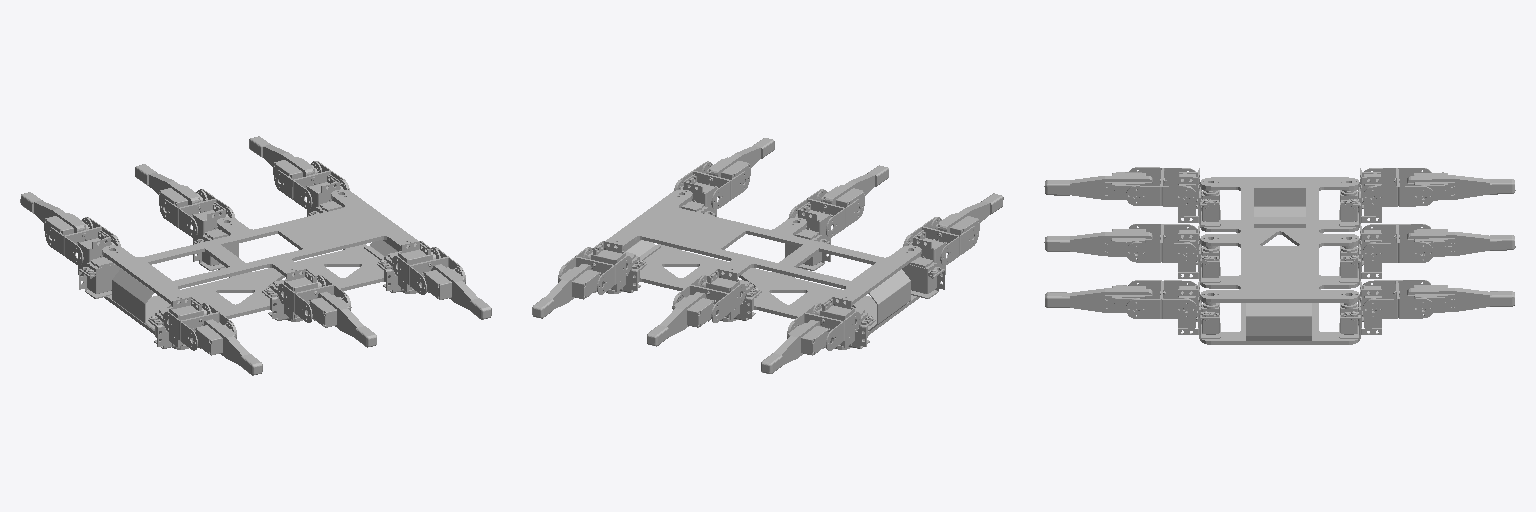
--- Render facts (derived) ---
Views: 3 orthographic renders of the robot side by side, from view 1: azimuth 30°, elevation 25°; view 2: azimuth 150°, elevation 25°; view 3: azimuth 270°, elevation 25°.
Model hexapodV2 with 25 links and 24 joints (18 revolute, 6 fixed), rooted at base_link, posed every joint at zero.
Visible links, largest first — view 1: base_link, lb_hip_to_base, rb_toe_to_knee, rf_toe_to_knee, rm_toe_to_knee, lf_toe_to_knee, lb_toe_to_knee, lm_hip_to_base, lm_toe_to_knee, lf_knee_to_hip, lm_knee_to_hip, lb_knee_to_hip (+7 smaller); view 2: base_link, rb_hip_to_base, lf_toe_to_knee, lb_toe_to_knee, lm_toe_to_knee, rm_hip_to_base, rm_knee_to_hip, rb_knee_to_hip, rf_knee_to_hip, rb_toe_to_knee, rm_toe_to_knee, rf_toe_to_knee (+7 smaller); view 3: base_link, rf_knee_to_hip, lm_knee_to_hip, rm_knee_to_hip, lf_knee_to_hip, lb_knee_to_hip, rb_knee_to_hip, rm_toe_to_knee, lm_toe_to_knee, lf_toe_to_knee, rb_toe_to_knee, rf_toe_to_knee (+7 smaller).
Boxes of the visible links, x1,y1,x2,y2 form: base_link: (102, 189, 419, 349); lb_hip_to_base: (78, 230, 120, 298); rb_toe_to_knee: (195, 319, 262, 375); rf_toe_to_knee: (424, 264, 491, 319); rm_toe_to_knee: (309, 291, 376, 347); lf_toe_to_knee: (249, 136, 315, 185); lb_toe_to_knee: (20, 192, 87, 241); lm_hip_to_base: (193, 202, 238, 270); lm_toe_to_knee: (135, 164, 201, 213); lf_knee_to_hip: (274, 161, 349, 209); lm_knee_to_hip: (160, 189, 235, 237); lb_knee_to_hip: (45, 217, 120, 265); base_link: (604, 189, 921, 349); rb_hip_to_base: (902, 230, 945, 298); lf_toe_to_knee: (532, 264, 599, 318); lb_toe_to_knee: (761, 320, 828, 373); lm_toe_to_knee: (647, 292, 714, 346); rm_hip_to_base: (785, 202, 830, 270); rm_knee_to_hip: (788, 189, 863, 237); rb_knee_to_hip: (903, 217, 978, 265); rf_knee_to_hip: (674, 161, 749, 209); rb_toe_to_knee: (936, 193, 1003, 241); rm_toe_to_knee: (822, 165, 888, 213); rf_toe_to_knee: (708, 138, 774, 185); base_link: (1200, 177, 1359, 344); rf_knee_to_hip: (1126, 280, 1196, 318); lm_knee_to_hip: (1363, 224, 1433, 262); rm_knee_to_hip: (1126, 224, 1196, 262); lf_knee_to_hip: (1363, 280, 1433, 318); lb_knee_to_hip: (1363, 168, 1433, 206); rb_knee_to_hip: (1126, 167, 1196, 206); rm_toe_to_knee: (1044, 229, 1152, 256); lm_toe_to_knee: (1407, 229, 1515, 256); lf_toe_to_knee: (1407, 285, 1514, 312); rb_toe_to_knee: (1044, 172, 1152, 199); rf_toe_to_knee: (1045, 285, 1152, 312).
Bounding box of the posed robot: 0.3662 × 0.537 × 0.0663 m (x, y, z).
19 mesh visuals loaded from 19 distinct referenced files (19 binary STL).

URDF robot description (hexapodV2):
<?xml version="1.0" encoding="utf-8"?>
<!-- This URDF was automatically created by SolidWorks to URDF Exporter! Originally created by Stephen Brawner ([email redacted]) 
     Commit Version: 1.5.1-0-g916b5db  Build Version: 1.5.7152.31018
     For more information, please see http://wiki.ros.org/sw_urdf_exporter -->
<robot
  name="hexapodV2">
  <link
    name="base_link">
    <inertial>
      <origin
        xyz="0.0067990308454218 -0.0259575342121318 -9.66259386206335E-06"
        rpy="0 0 0" />
      <mass
        value="0.275210277782798" />
      <inertia
        ixx="0.000409158325196003"
        ixy="3.1517824761046E-21"
        ixz="-1.7413368681387E-07"
        iyy="0.00316209419264898"
        iyz="-1.29264497857854E-21"
        izz="0.00276358508633739" />
    </inertial>
    <visual>
      <origin
        xyz="0 0 0"
        rpy="0 0 0" />
      <geometry>
        <mesh
          filename="package://hexapodV2/meshes/base_link.STL" />
      </geometry>
      <material
        name="">
        <color
          rgba="0.752941176470588 0.752941176470588 0.752941176470588 1" />
      </material>
    </visual>
    <collision>
      <origin
        xyz="0 0 0"
        rpy="0 0 0" />
      <geometry>
        <mesh
          filename="package://hexapodV2/meshes/base_link.STL" />
      </geometry>
    </collision>
  </link>
  <link
    name="rf_hip_to_base">
    <inertial>
      <origin
        xyz="-0.00415399182982698 -0.0166558983167384 0.012717760570252"
        rpy="0 0 0" />
      <mass
        value="0.0449144116013467" />
      <inertia
        ixx="5.09698199663008E-06"
        ixy="-3.22513254899628E-08"
        ixz="1.12976210869663E-07"
        iyy="5.08781226390887E-06"
        iyz="-1.12976210548031E-07"
        izz="7.26393799893956E-06" />
    </inertial>
    <visual>
      <origin
        xyz="0 0 0"
        rpy="0 0 0" />
      <geometry>
        <mesh
          filename="package://hexapodV2/meshes/rf_hip_to_base.STL" />
      </geometry>
      <material
        name="">
        <color
          rgba="0.752941176470588 0.752941176470588 0.752941176470588 1" />
      </material>
    </visual>
    <collision>
      <origin
        xyz="0 0 0"
        rpy="0 0 0" />
      <geometry>
        <mesh
          filename="package://hexapodV2/meshes/rf_hip_to_base.STL" />
      </geometry>
    </collision>
  </link>
  <joint
    name="rf_hip"
    type="revolute">
    <origin
      xyz="0.15172 -0.078675 0"
      rpy="1.5708 0 -0.029412" />
    <parent
      link="base_link" />
    <child
      link="rf_hip_to_base" />
    <axis
      xyz="0 1 0" />
    <limit
      lower="-1.5708"
      upper="1.5708"
      effort="0.79796"
      velocity="5.235" />
  </joint>
  <link
    name="rf_knee_to_hip">
    <inertial>
      <origin
        xyz="-0.000555802236244879 -0.00168932214648174 -0.02847384010096"
        rpy="0 0 0" />
      <mass
        value="0.0118186065953276" />
      <inertia
        ixx="5.52442117813173E-06"
        ixy="-2.23847600750652E-15"
        ixz="-1.72385399453896E-08"
        iyy="1.91728436634364E-06"
        iyz="7.85208111695882E-17"
        izz="4.64162440680366E-06" />
    </inertial>
    <visual>
      <origin
        xyz="0 0 0"
        rpy="0 0 0" />
      <geometry>
        <mesh
          filename="package://hexapodV2/meshes/rf_knee_to_hip.STL" />
      </geometry>
      <material
        name="">
        <color
          rgba="0.752941176470588 0.752941176470588 0.752941176470588 1" />
      </material>
    </visual>
    <collision>
      <origin
        xyz="0 0 0"
        rpy="0 0 0" />
      <geometry>
        <mesh
          filename="package://hexapodV2/meshes/rf_knee_to_hip.STL" />
      </geometry>
    </collision>
  </link>
  <joint
    name="rf_knee"
    type="revolute">
    <origin
      xyz="0 -0.0056176 0.027189"
      rpy="3.1416 0.013699 1.5708" />
    <parent
      link="rf_hip_to_base" />
    <child
      link="rf_knee_to_hip" />
    <axis
      xyz="0 1 0" />
    <limit
      lower="-0.7854"
      upper="1.9198"
      effort="0.79796"
      velocity="5.235" />
  </joint>
  <link
    name="rf_toe_to_knee">
    <inertial>
      <origin
        xyz="-0.030164880601543 -0.000902438506913184 -5.33411860692296E-06"
        rpy="0 0 0" />
      <mass
        value="0.0366497793984119" />
      <inertia
        ixx="2.00980561594113E-06"
        ixy="-1.61257037844107E-08"
        ixz="2.73014488283945E-09"
        iyy="2.73287718206029E-05"
        iyz="6.06510186577622E-10"
        izz="2.64522983141765E-05" />
    </inertial>
    <visual>
      <origin
        xyz="0 0 0"
        rpy="0 0 0" />
      <geometry>
        <mesh
          filename="package://hexapodV2/meshes/rf_toe_to_knee.STL" />
      </geometry>
      <material
        name="">
        <color
          rgba="0.752941176470588 0.752941176470588 0.752941176470588 1" />
      </material>
    </visual>
    <collision>
      <origin
        xyz="0 0 0"
        rpy="0 0 0" />
      <geometry>
        <mesh
          filename="package://hexapodV2/meshes/rf_toe_to_knee.STL" />
      </geometry>
    </collision>
  </link>
  <joint
    name="rf_toe"
    type="revolute">
    <origin
      xyz="-0.0011153 0 -0.057139"
      rpy="0 -1.554 0" />
    <parent
      link="rf_knee_to_hip" />
    <child
      link="rf_toe_to_knee" />
    <axis
      xyz="0 1 0" />
    <limit
      lower="-2.0944"
      upper="1.4835"
      effort="0.79796"
      velocity="5.235" />
  </joint>


  <link name="rf_toe_end"/>
  <joint
    name="rf_toe_to_rf_toe_end"
    type="fixed">
    <origin
      xyz="-0.11 0 0"
      rpy="0 1.57 3.14" />
    <parent
      link="rf_toe_to_knee" />
    <child
      link="rf_toe_end" />
    <axis
      xyz="1 0 0" />
    <limit
      lower="-0.2"
      upper="0.2"
      effort="0.79796"
      velocity="5.235" />
  </joint>




  <link
    name="rm_hip_to_base">
    <inertial>
      <origin
        xyz="-0.00415149189707401 -0.0166558983167402 0.0127176884256242"
        rpy="0 0 0" />
      <mass
        value="0.0449144116013505" />
      <inertia
        ixx="5.09698199663011E-06"
        ixy="-3.22513254899681E-08"
        ixz="1.12976210870546E-07"
        iyy="5.08781226390864E-06"
        iyz="-1.1297621054803E-07"
        izz="7.26393799893931E-06" />
    </inertial>
    <visual>
      <origin
        xyz="0 0 0"
        rpy="0 0 0" />
      <geometry>
        <mesh
          filename="package://hexapodV2/meshes/rm_hip_to_base.STL" />
      </geometry>
      <material
        name="">
        <color
          rgba="0.752941176470588 0.752941176470588 0.752941176470588 1" />
      </material>
    </visual>
    <collision>
      <origin
        xyz="0 0 0"
        rpy="0 0 0" />
      <geometry>
        <mesh
          filename="package://hexapodV2/meshes/rm_hip_to_base.STL" />
      </geometry>
    </collision>
  </link>
  <joint
    name="rm_hip"
    type="revolute">
    <origin
      xyz="0 -0.078675 0"
      rpy="1.5708 0 -0.028851" />
    <parent
      link="base_link" />
    <child
      link="rm_hip_to_base" />
    <axis
      xyz="0 1 0" />
    <limit
      lower="-1.5708"
      upper="1.5708"
      effort="0.79796"
      velocity="5.235" />
  </joint>
  <link
    name="rm_knee_to_hip">
    <inertial>
      <origin
        xyz="-0.000555802236693805 -0.00168682221372598 -0.0284738401009373"
        rpy="0 0 0" />
      <mass
        value="0.0118186065951877" />
      <inertia
        ixx="5.52455059567564E-06"
        ixy="-2.23866411287561E-15"
        ixz="-1.61199346499252E-08"
        iyy="1.91728436634333E-06"
        iyz="7.78670241570386E-17"
        izz="4.64149498925951E-06" />
    </inertial>
    <visual>
      <origin
        xyz="0 0 0"
        rpy="0 0 0" />
      <geometry>
        <mesh
          filename="package://hexapodV2/meshes/rm_knee_to_hip.STL" />
      </geometry>
      <material
        name="">
        <color
          rgba="0.752941176470588 0.752941176470588 0.752941176470588 1" />
      </material>
    </visual>
    <collision>
      <origin
        xyz="0 0 0"
        rpy="0 0 0" />
      <geometry>
        <mesh
          filename="package://hexapodV2/meshes/rm_knee_to_hip.STL" />
      </geometry>
    </collision>
  </link>
  <joint
    name="rm_knee"
    type="revolute">
    <origin
      xyz="0 -0.0056176 0.027189"
      rpy="3.1416 0.020983 1.5708" />
    <parent
      link="rm_hip_to_base" />
    <child
      link="rm_knee_to_hip" />
    <axis
      xyz="0 1 0" />
    <limit
      lower="-0.7854"
      upper="1.9198"
      effort="0.79796"
      velocity="5.235" />
  </joint>
  <link
    name="rm_toe_to_knee">
    <inertial>
      <origin
        xyz="-0.0301648806026858 -0.000899938574727707 -5.33412241864387E-06"
        rpy="0 0 0" />
      <mass
        value="0.0366497793994432" />
      <inertia
        ixx="2.00980561600735E-06"
        ixy="-1.61257045526316E-08"
        ixz="2.73014174238642E-09"
        iyy="2.73287718211868E-05"
        iyz="6.06510120077359E-10"
        izz="2.64522983147499E-05" />
    </inertial>
    <visual>
      <origin
        xyz="0 0 0"
        rpy="0 0 0" />
      <geometry>
        <mesh
          filename="package://hexapodV2/meshes/rm_toe_to_knee.STL" />
      </geometry>
      <material
        name="">
        <color
          rgba="0.752941176470588 0.752941176470588 0.752941176470588 1" />
      </material>
    </visual>
    <collision>
      <origin
        xyz="0 0 0"
        rpy="0 0 0" />
      <geometry>
        <mesh
          filename="package://hexapodV2/meshes/rm_toe_to_knee.STL" />
      </geometry>
    </collision>
  </link>
  <joint
    name="rm_toe"
    type="revolute">
    <origin
      xyz="-0.0011153 0 -0.057139"
      rpy="0 -1.5436 0" />
    <parent
      link="rm_knee_to_hip" />
    <child
      link="rm_toe_to_knee" />
    <axis
      xyz="0 1 0" />
    <limit
      lower="-2.0944"
      upper="1.4835"
      effort="0.79796"
      velocity="5.235" />
  </joint>


  <link name="rm_toe_end"/>
  <joint
    name="rm_toe_to_rm_toe_end"
    type="fixed">
    <origin
      xyz="-0.11 0 0"
      rpy="0 1.57 3.14" />
    <parent
      link="rm_toe_to_knee" />
    <child
      link="rm_toe_end" />
    <axis
      xyz="1 0 0" />
    <limit
      lower="-0.2"
      upper="0.2"
      effort="0.79796"
      velocity="5.235" />
  </joint>





  <link
    name="rb_hip_to_base">
    <inertial>
      <origin
        xyz="-0.00415399182982679 -0.0166558983167385 0.0127177605702519"
        rpy="0 0 0" />
      <mass
        value="0.0449144116013468" />
      <inertia
        ixx="5.09698199663009E-06"
        ixy="-3.22513254899643E-08"
        ixz="1.12976210869688E-07"
        iyy="5.08781226390886E-06"
        iyz="-1.1297621054803E-07"
        izz="7.26393799893955E-06" />
    </inertial>
    <visual>
      <origin
        xyz="0 0 0"
        rpy="0 0 0" />
      <geometry>
        <mesh
          filename="package://hexapodV2/meshes/rb_hip_to_base.STL" />
      </geometry>
      <material
        name="">
        <color
          rgba="0.752941176470588 0.752941176470588 0.752941176470588 1" />
      </material>
    </visual>
    <collision>
      <origin
        xyz="0 0 0"
        rpy="0 0 0" />
      <geometry>
        <mesh
          filename="package://hexapodV2/meshes/rb_hip_to_base.STL" />
      </geometry>
    </collision>
  </link>
  <joint
    name="rb_hip"
    type="revolute">
    <origin
      xyz="-0.15173 -0.078675 0"
      rpy="1.5708 0 -0.029396" />
    <parent
      link="base_link" />
    <child
      link="rb_hip_to_base" />
    <axis
      xyz="0 1 0" />
    <limit
      lower="-1.5708"
      upper="1.5708"
      effort="0.79796"
      velocity="5.235" />
  </joint>
  <link
    name="rb_knee_to_hip">
    <inertial>
      <origin
        xyz="-0.000555802237101171 -0.00168932214650303 -0.0284738401009497"
        rpy="0 0 0" />
      <mass
        value="0.0118186065953914" />
      <inertia
        ixx="5.52442117813124E-06"
        ixy="-2.23881032294254E-15"
        ixz="-1.72385399619669E-08"
        iyy="1.91728436634376E-06"
        iyz="7.85177042792075E-17"
        izz="4.64162440680429E-06" />
    </inertial>
    <visual>
      <origin
        xyz="0 0 0"
        rpy="0 0 0" />
      <geometry>
        <mesh
          filename="package://hexapodV2/meshes/rb_knee_to_hip.STL" />
      </geometry>
      <material
        name="">
        <color
          rgba="0.752941176470588 0.752941176470588 0.752941176470588 1" />
      </material>
    </visual>
    <collision>
      <origin
        xyz="0 0 0"
        rpy="0 0 0" />
      <geometry>
        <mesh
          filename="package://hexapodV2/meshes/rb_knee_to_hip.STL" />
      </geometry>
    </collision>
  </link>
  <joint
    name="rb_knee"
    type="revolute">
    <origin
      xyz="0 -0.0056176 0.027189"
      rpy="3.1416 0.027582 1.5708" />
    <parent
      link="rb_hip_to_base" />
    <child
      link="rb_knee_to_hip" />
    <axis
      xyz="0 1 0" />
    <limit
      lower="-0.7854"
      upper="1.9198"
      effort="0.79796"
      velocity="5.235" />
  </joint>
  <link
    name="rb_toe_to_knee">
    <inertial>
      <origin
        xyz="-0.0301648806045727 -0.000902438508263326 -5.33412863879543E-06"
        rpy="0 0 0" />
      <mass
        value="0.0366497794011688" />
      <inertia
        ixx="2.00980561613788E-06"
        ixy="-1.61257056894809E-08"
        ixz="2.73013662030851E-09"
        iyy="2.73287718221797E-05"
        iyz="6.06510010494039E-10"
        izz="2.6452298315698E-05" />
    </inertial>
    <visual>
      <origin
        xyz="0 0 0"
        rpy="0 0 0" />
      <geometry>
        <mesh
          filename="package://hexapodV2/meshes/rb_toe_to_knee.STL" />
      </geometry>
      <material
        name="">
        <color
          rgba="0.752941176470588 0.752941176470588 0.752941176470588 1" />
      </material>
    </visual>
    <collision>
      <origin
        xyz="0 0 0"
        rpy="0 0 0" />
      <geometry>
        <mesh
          filename="package://hexapodV2/meshes/rb_toe_to_knee.STL" />
      </geometry>
    </collision>
  </link>
  <joint
    name="rb_toe"
    type="revolute">
    <origin
      xyz="-0.0011153 0 -0.057139"
      rpy="0 -1.5318 0" />
    <parent
      link="rb_knee_to_hip" />
    <child
      link="rb_toe_to_knee" />
    <axis
      xyz="0 1 0" />
    <limit
      lower="-2.0944"
      upper="1.4835"
      effort="0.79796"
      velocity="5.235" />
  </joint>

  <link name="rb_toe_end"/>
  <joint
    name="rb_toe_to_rb_toe_end"
    type="fixed">
    <origin
      xyz="-0.11 0 0"
      rpy="0 1.57 3.14" />
    <parent
      link="rb_toe_to_knee" />
    <child
      link="rb_toe_end" />
    <axis
      xyz="1 0 0" />
    <limit
      lower="-0.2"
      upper="0.2"
      effort="0.79796"
      velocity="5.235" />
  </joint>
  <link
    name="lf_hip_to_base">
    <inertial>
      <origin
        xyz="-0.00415110886194259 -0.016654015933136 -0.0127177605585447"
        rpy="0 0 0" />
      <mass
        value="0.0449144116009347" />
      <inertia
        ixx="5.09698199565348E-06"
        ixy="-3.21162436293735E-08"
        ixz="-1.11463873863499E-07"
        iyy="5.08781226488363E-06"
        iyz="1.11463873364421E-07"
        izz="7.26393799893962E-06" />
    </inertial>
    <visual>
      <origin
        xyz="0 0 0"
        rpy="0 0 0" />
      <geometry>
        <mesh
          filename="package://hexapodV2/meshes/lf_hip_to_base.STL" />
      </geometry>
      <material
        name="">
        <color
          rgba="0.752941176470588 0.752941176470588 0.752941176470588 1" />
      </material>
    </visual>
    <collision>
      <origin
        xyz="0 0 0"
        rpy="0 0 0" />
      <geometry>
        <mesh
          filename="package://hexapodV2/meshes/lf_hip_to_base.STL" />
      </geometry>
    </collision>
  </link>
  <joint
    name="lf_hip"
    type="revolute">
    <origin
      xyz="0.15172 0.078675 0"
      rpy="1.5708 0 0.029653" />
    <parent
      link="base_link" />
    <child
      link="lf_hip_to_base" />
    <axis
      xyz="0 1 0" />
    <limit
      lower="-1.5708"
      upper="1.5708"
      effort="0.79796"
      velocity="5.235" />
  </joint>
  <link
    name="lf_knee_to_hip">
    <inertial>
      <origin
        xyz="-0.000555802236137545 -0.00168432214648084 -0.0284738401009665"
        rpy="0 0 0" />
      <mass
        value="0.0118186065953715" />
      <inertia
        ixx="5.52442117813192E-06"
        ixy="-2.23842773800226E-15"
        ixz="-1.72385399433112E-08"
        iyy="1.91728436634373E-06"
        iyz="7.88189469146871E-17"
        izz="4.64162440680356E-06" />
    </inertial>
    <visual>
      <origin
        xyz="0 0 0"
        rpy="0 0 0" />
      <geometry>
        <mesh
          filename="package://hexapodV2/meshes/lf_knee_to_hip.STL" />
      </geometry>
      <material
        name="">
        <color
          rgba="0.752941176470588 0.752941176470588 0.752941176470588 1" />
      </material>
    </visual>
    <collision>
      <origin
        xyz="0 0 0"
        rpy="0 0 0" />
      <geometry>
        <mesh
          filename="package://hexapodV2/meshes/lf_knee_to_hip.STL" />
      </geometry>
    </collision>
  </link>
  <joint
    name="lf_knee"
    type="revolute">
    <origin
      xyz="0 -0.0056176 -0.027189"
      rpy="0 -0.011958 -1.5708" />
    <parent
      link="lf_hip_to_base" />
    <child
      link="lf_knee_to_hip" />
    <axis
      xyz="0 1 0" />
    <limit
      lower="-0.7854"
      upper="1.9198"
      effort="0.79796"
      velocity="5.235" />
  </joint>
  <link
    name="lf_toe_to_knee">
    <inertial>
      <origin
        xyz="-0.0301648806018033 -0.000897438507030668 -5.33411964347228E-06"
        rpy="0 0 0" />
      <mass
        value="0.0366497793986525" />
      <inertia
        ixx="2.00980561595547E-06"
        ixy="-1.61257039618637E-08"
        ixz="2.7301440287439E-09"
        iyy="2.73287718207367E-05"
        iyz="6.06510168425431E-10"
        izz="2.64522983143078E-05" />
    </inertial>
    <visual>
      <origin
        xyz="0 0 0"
        rpy="0 0 0" />
      <geometry>
        <mesh
          filename="package://hexapodV2/meshes/lf_toe_to_knee.STL" />
      </geometry>
      <material
        name="">
        <color
          rgba="0.752941176470588 0.752941176470588 0.752941176470588 1" />
      </material>
    </visual>
    <collision>
      <origin
        xyz="0 0 0"
        rpy="0 0 0" />
      <geometry>
        <mesh
          filename="package://hexapodV2/meshes/lf_toe_to_knee.STL" />
      </geometry>
    </collision>
  </link>
  <joint
    name="lf_toe"
    type="revolute">
    <origin
      xyz="-0.0011153 0 -0.057139"
      rpy="0 -1.5549 0" />
    <parent
      link="lf_knee_to_hip" />
    <child
      link="lf_toe_to_knee" />
    <axis
      xyz="0 1 0" />
    <limit
      lower="-2.0944"
      upper="1.4835"
      effort="0.79796"
      velocity="5.235" />
  </joint>

  <link name="lf_toe_end"/>
  <joint
    name="lf_toe_to_lf_toe_end"
    type="fixed">
    <origin
      xyz="-0.11 0 0"
      rpy="0 -1.57 0" />
    <parent
      link="lf_toe_to_knee" />
    <child
      link="lf_toe_end" />
    <axis
      xyz="1 0 0" />
    <limit
      lower="-0.2"
      upper="0.2"
      effort="0.79796"
      velocity="5.235" />
  </joint>



  <link
    name="lm_hip_to_base">
    <inertial>
      <origin
        xyz="-0.00414860894159053 -0.0166540159331394 -0.0127176879854171"
        rpy="0 0 0" />
      <mass
        value="0.0449144116009474" />
      <inertia
        ixx="5.09698199565353E-06"
        ixy="-3.21162436293729E-08"
        ixz="-1.11463873864496E-07"
        iyy="5.08781226488338E-06"
        iyz="1.1146387336442E-07"
        izz="7.26393799893935E-06" />
    </inertial>
    <visual>
      <origin
        xyz="0 0 0"
        rpy="0 0 0" />
      <geometry>
        <mesh
          filename="package://hexapodV2/meshes/lm_hip_to_base.STL" />
      </geometry>
      <material
        name="">
        <color
          rgba="0.752941176470588 0.752941176470588 0.752941176470588 1" />
      </material>
    </visual>
    <collision>
      <origin
        xyz="0 0 0"
        rpy="0 0 0" />
      <geometry>
        <mesh
          filename="package://hexapodV2/meshes/lm_hip_to_base.STL" />
      </geometry>
    </collision>
  </link>
  <joint
    name="lm_hip"
    type="revolute">
    <origin
      xyz="0 0.078675 0"
      rpy="1.5708 0 0.029022" />
    <parent
      link="base_link" />
    <child
      link="lm_hip_to_base" />
    <axis
      xyz="0 1 0" />
    <limit
      lower="-1.5708"
      upper="1.5708"
      effort="0.79796"
      velocity="5.235" />
  </joint>
  <link
    name="lm_knee_to_hip">
    <inertial>
      <origin
        xyz="-0.000555802236787112 -0.00168182222613859 -0.0284738401009408"
        rpy="0 0 0" />
      <mass
        value="0.0118186065952421" />
      <inertia
        ixx="5.52455059567571E-06"
        ixy="-2.23869376916172E-15"
        ixz="-1.61199346517338E-08"
        iyy="1.91728436634347E-06"
        iyz="7.80752321346631E-17"
        izz="4.64149498925959E-06" />
    </inertial>
    <visual>
      <origin
        xyz="0 0 0"
        rpy="0 0 0" />
      <geometry>
        <mesh
          filename="package://hexapodV2/meshes/lm_knee_to_hip.STL" />
      </geometry>
      <material
        name="">
        <color
          rgba="0.752941176470588 0.752941176470588 0.752941176470588 1" />
      </material>
    </visual>
    <collision>
      <origin
        xyz="0 0 0"
        rpy="0 0 0" />
      <geometry>
        <mesh
          filename="package://hexapodV2/meshes/lm_knee_to_hip.STL" />
      </geometry>
    </collision>
  </link>
  <joint
    name="lm_knee"
    type="revolute">
    <origin
      xyz="0 -0.0056176 -0.027189"
      rpy="0 -0.022496 -1.5708" />
    <parent
      link="lm_hip_to_base" />
    <child
      link="lm_knee_to_hip" />
    <axis
      xyz="0 1 0" />
    <limit
      lower="-0.7854"
      upper="1.9198"
      effort="0.79796"
      velocity="5.235" />
  </joint>
  <link
    name="lm_toe_to_knee">
    <inertial>
      <origin
        xyz="-0.0301648806047343 -0.00089493858800551 -5.3341290053464E-06"
        rpy="0 0 0" />
      <mass
        value="0.0366497794013101" />
      <inertia
        ixx="2.0098056161491E-06"
        ixy="-1.61257057890182E-08"
        ixz="2.73013631790916E-09"
        iyy="2.73287718222629E-05"
        iyz="6.06510004003626E-10"
        izz="2.64522983157784E-05" />
    </inertial>
    <visual>
      <origin
        xyz="0 0 0"
        rpy="0 0 0" />
      <geometry>
        <mesh
          filename="package://hexapodV2/meshes/lm_toe_to_knee.STL" />
      </geometry>
      <material
        name="">
        <color
          rgba="0.752941176470588 0.752941176470588 0.752941176470588 1" />
      </material>
    </visual>
    <collision>
      <origin
        xyz="0 0 0"
        rpy="0 0 0" />
      <geometry>
        <mesh
          filename="package://hexapodV2/meshes/lm_toe_to_knee.STL" />
      </geometry>
    </collision>
  </link>
  <joint
    name="lm_toe"
    type="revolute">
    <origin
      xyz="-0.0011153 0 -0.057139"
      rpy="0 -1.5366 0" />
    <parent
      link="lm_knee_to_hip" />
    <child
      link="lm_toe_to_knee" />
    <axis
      xyz="0 1 0" />
    <limit
      lower="-2.0944"
      upper="1.4835"
      effort="0.79796"
      velocity="5.235" />
  </joint>

  <link name="lm_toe_end"/>
  <joint
    name="lm_toe_to_lm_toe_end"
    type="fixed">
    <origin
      xyz="-0.11 0 0"
      rpy="0 -1.57 0" />
    <parent
      link="lm_toe_to_knee" />
    <child
      link="lm_toe_end" />
    <axis
      xyz="1 0 0" />
    <limit
      lower="-0.2"
      upper="0.2"
      effort="0.79796"
      velocity="5.235" />
  </joint>




  <link
    name="lb_hip_to_base">
    <inertial>
      <origin
        xyz="-0.00415110886192369 -0.0166540159331409 -0.0127177605585427"
        rpy="0 0 0" />
      <mass
        value="0.0449144116009534" />
      <inertia
        ixx="5.09698199565353E-06"
        ixy="-3.21162436293747E-08"
        ixz="-1.11463873864945E-07"
        iyy="5.08781226488326E-06"
        iyz="1.11463873364419E-07"
        izz="7.26393799893922E-06" />
    </inertial>
    <visual>
      <origin
        xyz="0 0 0"
        rpy="0 0 0" />
      <geometry>
        <mesh
          filename="package://hexapodV2/meshes/lb_hip_to_base.STL" />
      </geometry>
      <material
        name="">
        <color
          rgba="0.752941176470588 0.752941176470588 0.752941176470588 1" />
      </material>
    </visual>
    <collision>
      <origin
        xyz="0 0 0"
        rpy="0 0 0" />
      <geometry>
        <mesh
          filename="package://hexapodV2/meshes/lb_hip_to_base.STL" />
      </geometry>
    </collision>
  </link>
  <joint
    name="lb_hip"
    type="revolute">
    <origin
      xyz="-0.15173 0.078675 0"
      rpy="1.5708 0 0.028737" />
    <parent
      link="base_link" />
    <child
      link="lb_hip_to_base" />
    <axis
      xyz="0 1 0" />
    <limit
      lower="-1.5708"
      upper="1.5708"
      effort="0.79796"
      velocity="5.235" />
  </joint>
  <link
    name="lb_knee_to_hip">
    <inertial>
      <origin
        xyz="-0.000555802236661192 -0.0016843221464683 -0.028473840100936"
        rpy="0 0 0" />
      <mass
        value="0.0118186065951689" />
      <inertia
        ixx="5.52442117813107E-06"
        ixy="-2.23865315180191E-15"
        ixz="-1.72385399534455E-08"
        iyy="1.91728436634328E-06"
        iyz="7.77406111071058E-17"
        izz="4.64162440680402E-06" />
    </inertial>
    <visual>
      <origin
        xyz="0 0 0"
        rpy="0 0 0" />
      <geometry>
        <mesh
          filename="package://hexapodV2/meshes/lb_knee_to_hip.STL" />
      </geometry>
      <material
        name="">
        <color
          rgba="0.752941176470588 0.752941176470588 0.752941176470588 1" />
      </material>
    </visual>
    <collision>
      <origin
        xyz="0 0 0"
        rpy="0 0 0" />
      <geometry>
        <mesh
          filename="package://hexapodV2/meshes/lb_knee_to_hip.STL" />
      </geometry>
    </collision>
  </link>
  <joint
    name="lb_knee"
    type="revolute">
    <origin
      xyz="0 -0.0056176 -0.027189"
      rpy="0 -0.020453 -1.5708" />
    <parent
      link="lb_hip_to_base" />
    <child
      link="lb_knee_to_hip" />
    <axis
      xyz="0 1 0" />
    <limit
      lower="-0.7854"
      upper="1.9198"
      effort="0.79796"
      velocity="5.235" />
  </joint>
  <link
    name="lb_toe_to_knee">
    <inertial>
      <origin
        xyz="-0.0301648806041941 -0.000897438508131315 -5.33412726268483E-06"
        rpy="0 0 0" />
      <mass
        value="0.0366497794008139" />
      <inertia
        ixx="2.0098056161088E-06"
        ixy="-1.61257054809739E-08"
        ixz="2.73013775267275E-09"
        iyy="2.73287718219749E-05"
        iyz="6.06510034824168E-10"
        izz="2.64522983155068E-05" />
    </inertial>
    <visual>
      <origin
        xyz="0 0 0"
        rpy="0 0 0" />
      <geometry>
        <mesh
          filename="package://hexapodV2/meshes/lb_toe_to_knee.STL" />
      </geometry>
      <material
        name="">
        <color
          rgba="0.752941176470588 0.752941176470588 0.752941176470588 1" />
      </material>
    </visual>
    <collision>
      <origin
        xyz="0 0 0"
        rpy="0 0 0" />
      <geometry>
        <mesh
          filename="package://hexapodV2/meshes/lb_toe_to_knee.STL" />
      </geometry>
    </collision>
  </link>
  <joint
    name="lb_toe"
    type="revolute">
    <origin
      xyz="-0.0011153 0 -0.057139"
      rpy="0 -1.5401 0" />
    <parent
      link="lb_knee_to_hip" />
    <child
      link="lb_toe_to_knee" />
    <axis
      xyz="0 1 0" />
    <limit
      lower="-2.0944"
      upper="1.4835"
      effort="0.79796"
      velocity="5.235" />
  </joint>

  <link name="lb_toe_end"/>
  <joint
    name="lb_toe_to_lb_toe_end"
    type="fixed">
    <origin
      xyz="-0.11 0 0"
      rpy="0 -1.57 0" />
    <parent
      link="lb_toe_to_knee" />
    <child
      link="lb_toe_end" />
    <axis
      xyz="1 0 0" />
    <limit
      lower="-0.2"
      upper="0.2"
      effort="0.79796"
      velocity="5.235" />
  </joint>

</robot>
